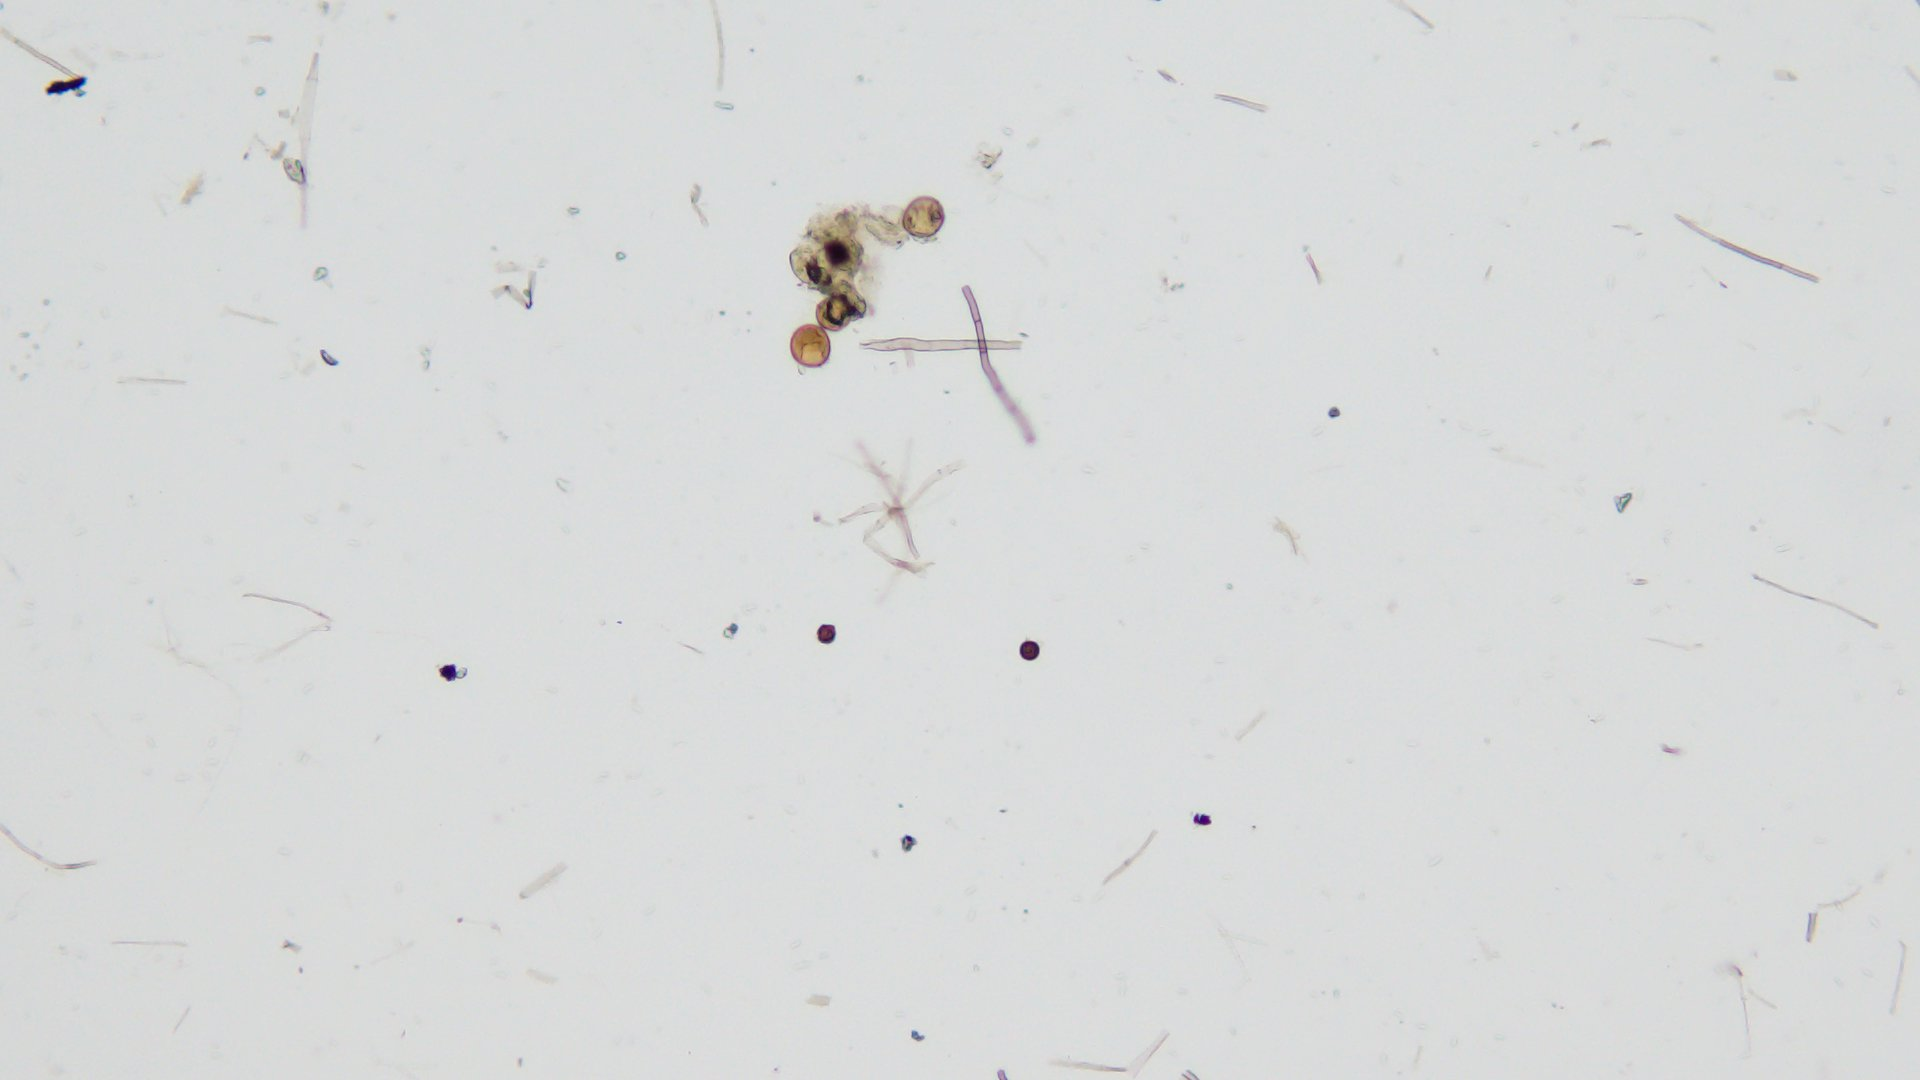shs_spore: (1019, 640, 1039, 663), (818, 622, 835, 645)
xb_spore: (899, 193, 948, 237), (789, 324, 829, 371)
